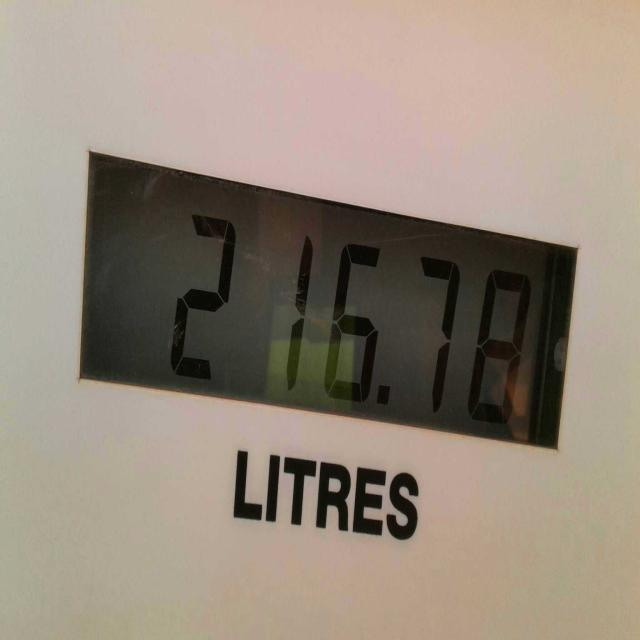.: (373, 380, 394, 426)
1: (269, 213, 320, 396)
2: (164, 207, 247, 383)
6: (328, 221, 394, 420)
7: (414, 232, 461, 429)
8: (466, 256, 548, 425)
